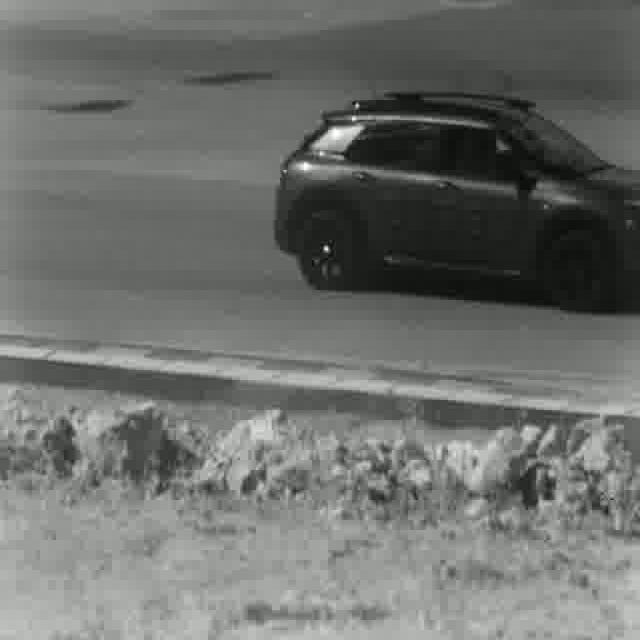Car: (272, 86, 640, 310)
